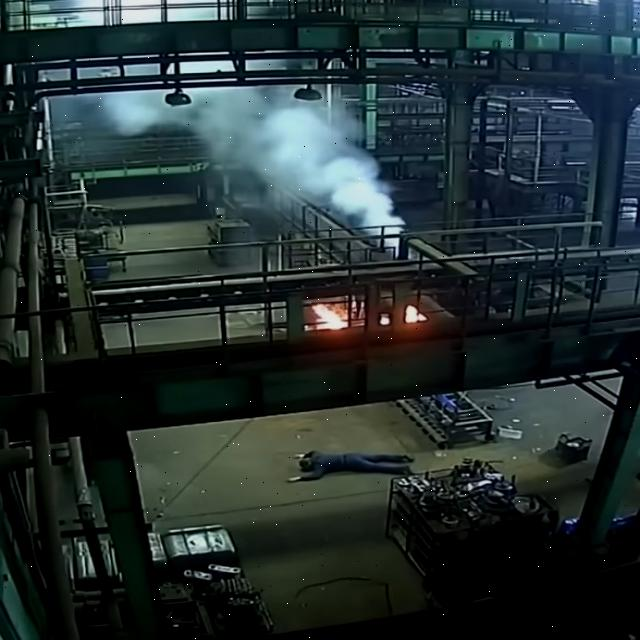fallen: (291, 450, 414, 481)
